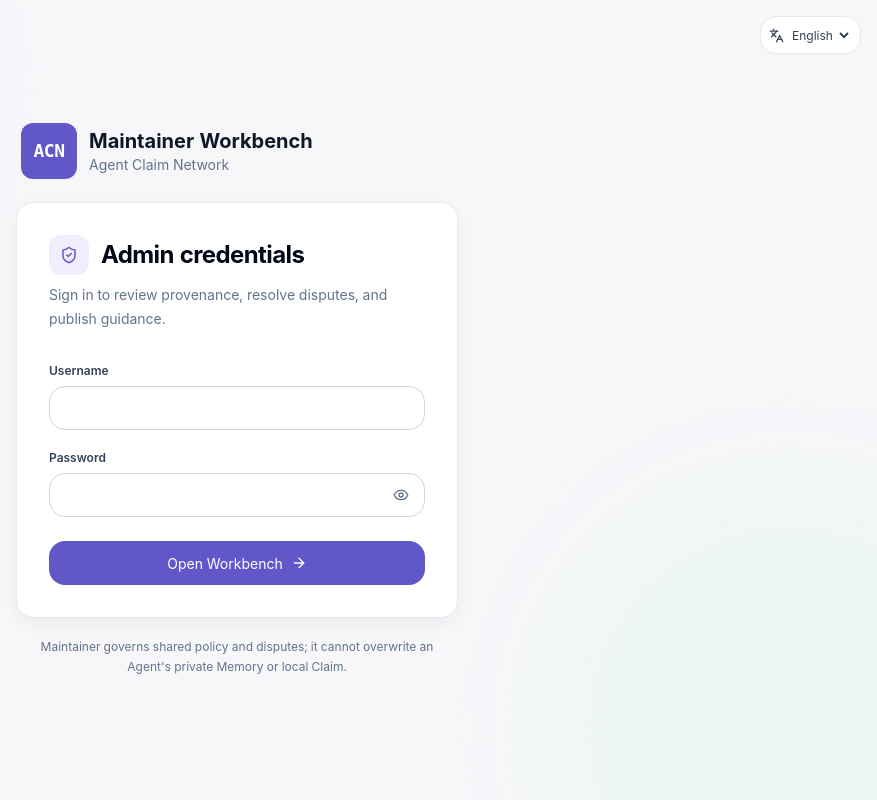
Test: workbench routes › shows an inline error when admin credentials are wrong
This screenshot has width=877, height=800.
Type "admin" into the field labelled "Username" at (237, 408), box [49,386,425,430]
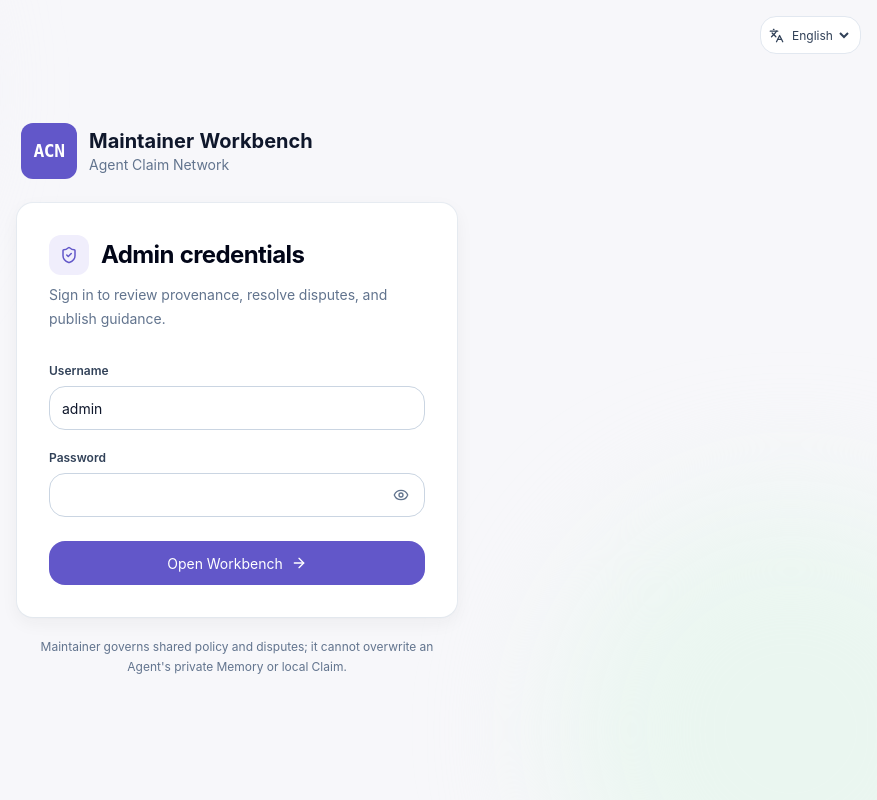
Type "wrong" into the password field labelled "Password" at (237, 495), box [49,473,425,517]
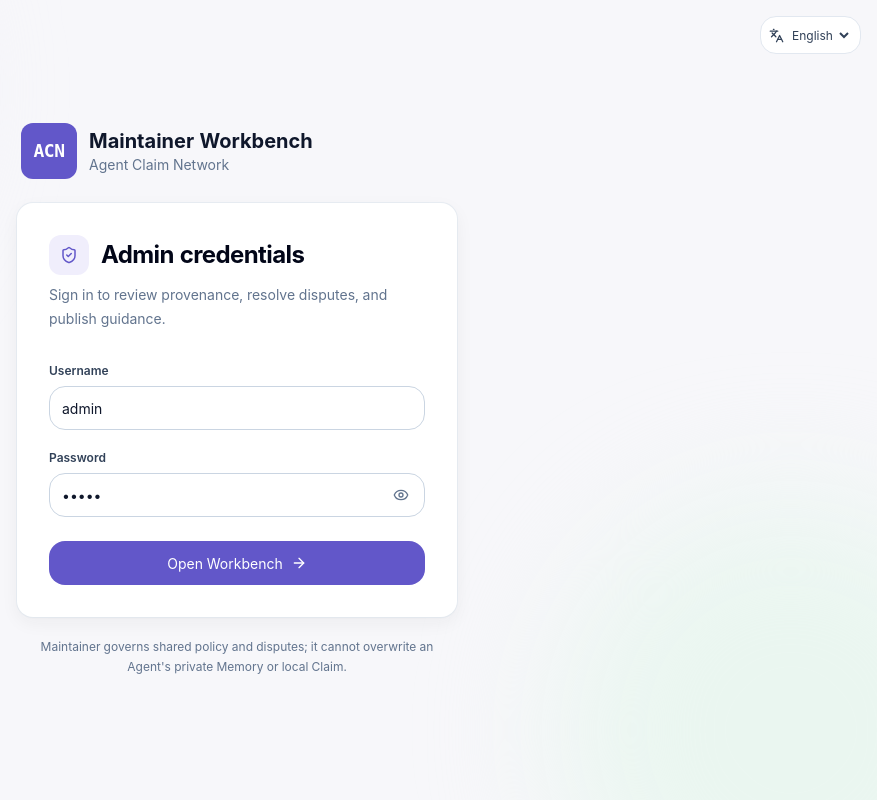
Click the button "Open Workbench" at (237, 563), box [49,541,425,585]
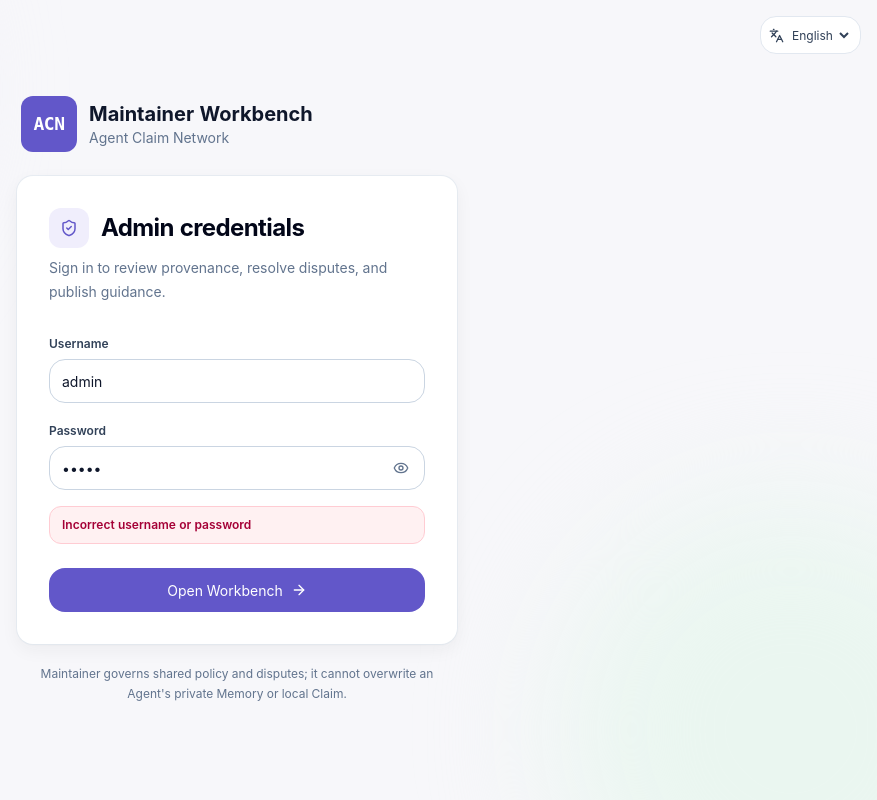
Result: the text "Incorrect username or password" is shown at [49,506,425,544]
